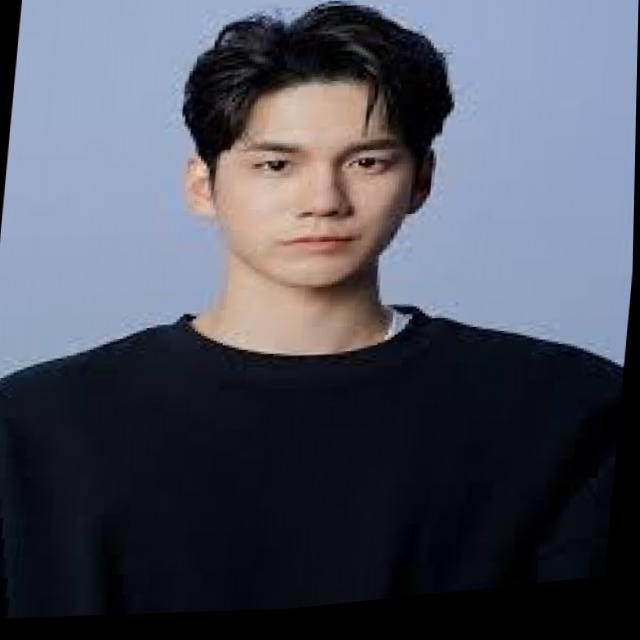Nonhelmet: (174, 1, 459, 292)
